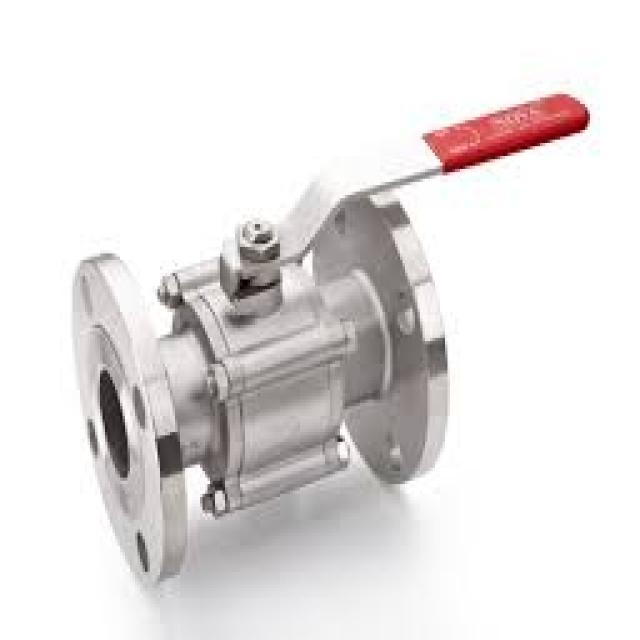Lever Handle Valve Threaded: (200, 81, 602, 289)
